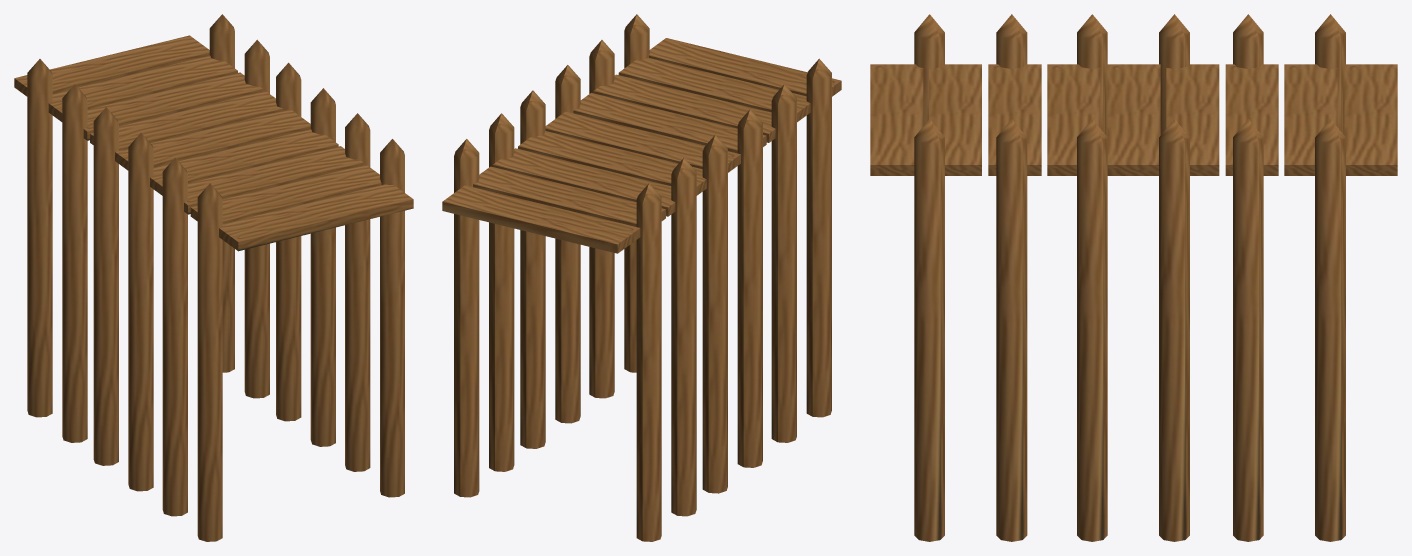
Rendered from Bridge (1).fbx.
3 views of the same model, side by side, from view 1: azimuth 30°, elevation 25°; view 2: azimuth 150°, elevation 25°; view 3: azimuth 270°, elevation 25° (orthographic). The views are drawn at different scales.
Visible parts, largest first — view 1: Box020; view 2: Box020; view 3: Box020.
Part boxes in pixels (bbox=[...]): Box020: bbox=[14, 14, 413, 541]; Box020: bbox=[442, 14, 841, 541]; Box020: bbox=[870, 14, 1397, 541].
Bounding box in the file's own units: 15.2 × 25.04 × 28.74.
